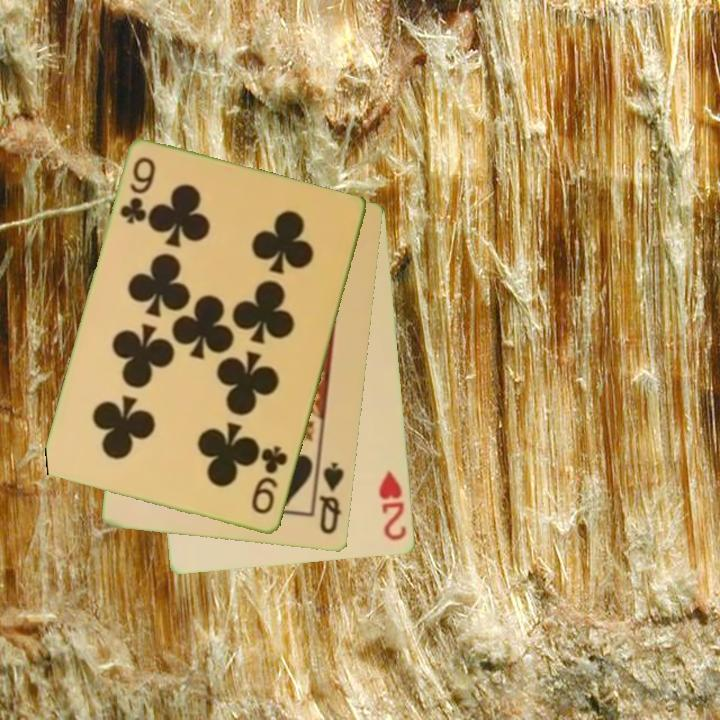2h: (376, 467, 410, 544)
9c: (248, 442, 291, 518), (117, 154, 159, 228)
Qs: (316, 459, 348, 538)
